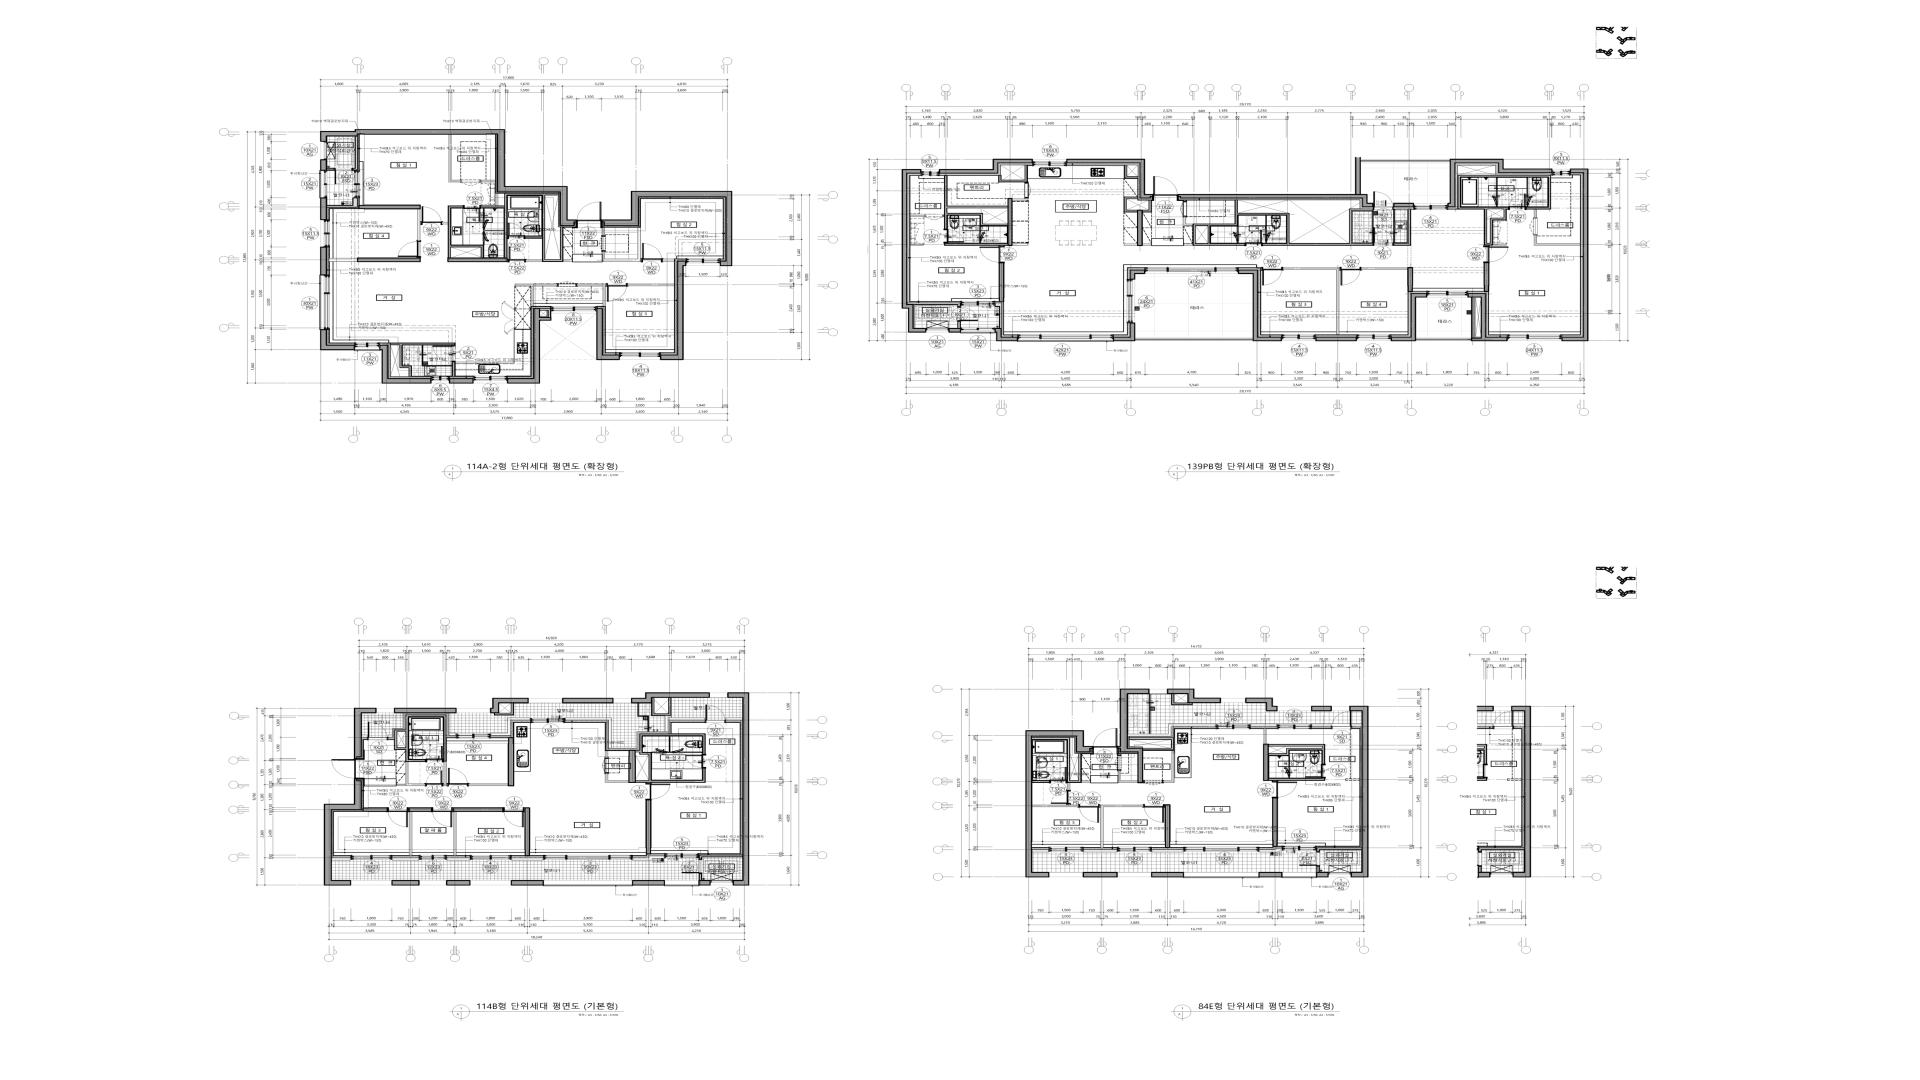door: (1092, 728, 1118, 755), (331, 759, 365, 779), (576, 202, 602, 228), (1153, 176, 1178, 201), (431, 807, 453, 828), (645, 783, 671, 800), (1483, 246, 1509, 263), (979, 246, 1005, 263), (387, 807, 409, 827), (641, 243, 663, 263), (1272, 781, 1297, 798), (503, 807, 524, 827), (420, 206, 442, 225), (1261, 267, 1283, 286), (1339, 267, 1361, 286), (447, 768, 468, 787), (606, 283, 627, 302), (1373, 227, 1394, 246), (1144, 804, 1165, 823), (1079, 804, 1100, 823), (398, 241, 421, 258), (432, 346, 456, 362), (1373, 191, 1393, 210), (705, 705, 726, 723), (367, 722, 388, 740), (1331, 711, 1352, 729), (681, 859, 702, 874), (1299, 851, 1320, 866), (957, 307, 978, 322), (1049, 767, 1067, 784), (463, 205, 481, 222), (425, 771, 444, 787), (686, 754, 706, 769), (1051, 790, 1071, 805), (943, 229, 964, 243), (1305, 764, 1326, 778), (426, 746, 443, 763), (508, 247, 526, 263), (334, 168, 352, 184), (1245, 230, 1263, 246), (1508, 194, 1526, 210), (508, 223, 525, 239), (1529, 218, 1538, 235), (461, 180, 481, 186), (557, 281, 577, 287), (1024, 182, 1031, 199), (602, 758, 609, 773), (1143, 780, 1163, 785), (925, 215, 944, 220)
wall: (320, 129, 576, 226), (1025, 730, 1092, 878), (1178, 157, 1373, 207), (602, 191, 732, 266), (1184, 200, 1373, 246), (1458, 175, 1551, 246), (481, 193, 572, 262), (1448, 159, 1553, 207), (1562, 169, 1589, 341), (727, 692, 749, 886), (324, 779, 362, 886), (902, 169, 926, 333), (394, 715, 447, 786), (1283, 268, 1339, 335), (1066, 159, 1153, 199), (1349, 706, 1369, 878), (636, 734, 706, 783), (944, 175, 1007, 229), (507, 308, 551, 384), (1238, 270, 1282, 341), (1032, 738, 1090, 790), (1118, 689, 1150, 783), (660, 261, 686, 360), (390, 343, 456, 377), (442, 206, 484, 257), (379, 345, 432, 384), (1468, 293, 1508, 341), (1100, 805, 1144, 848), (651, 698, 705, 732), (1391, 293, 1427, 341), (565, 718, 612, 749), (939, 159, 1033, 174), (602, 228, 641, 262), (596, 308, 620, 360), (354, 708, 376, 759), (1269, 744, 1325, 764), (1128, 724, 1216, 736), (515, 284, 557, 306), (631, 692, 710, 703), (1167, 689, 1221, 703), (320, 329, 355, 350), (491, 718, 530, 736), (577, 284, 606, 306), (1394, 209, 1411, 246), (448, 135, 461, 182), (490, 698, 529, 713), (1129, 738, 1174, 750), (998, 165, 1028, 182), (1534, 235, 1580, 246), (1135, 337, 1253, 341), (1245, 698, 1278, 711), (1113, 323, 1135, 341), (1163, 751, 1175, 783), (1361, 159, 1450, 163), (394, 708, 456, 713), (327, 198, 357, 208), (995, 328, 1018, 341), (508, 737, 514, 786), (524, 807, 530, 856), (1272, 798, 1278, 847), (646, 801, 651, 854), (1165, 804, 1171, 848), (494, 703, 514, 716), (628, 751, 636, 783), (357, 258, 421, 262), (562, 698, 613, 703), (453, 807, 503, 812), (359, 205, 421, 209), (447, 258, 508, 262), (1171, 694, 1193, 705), (1118, 771, 1138, 783), (1007, 198, 1012, 246), (605, 773, 628, 783), (1124, 197, 1138, 213), (1263, 744, 1269, 781), (1416, 337, 1471, 341), (907, 303, 961, 307), (1137, 210, 1143, 246), (1083, 872, 1118, 878), (320, 247, 327, 276), (632, 880, 665, 886), (511, 880, 544, 886), (1151, 872, 1184, 878), (1124, 165, 1138, 179), (999, 263, 1004, 302), (944, 243, 1007, 246), (995, 303, 1002, 328), (1484, 263, 1490, 292), (699, 855, 742, 859), (353, 137, 358, 171), (391, 880, 419, 886), (1315, 337, 1357, 341), (1269, 778, 1325, 781), (632, 856, 664, 861), (1471, 298, 1475, 338), (320, 198, 327, 220), (1407, 267, 1413, 292), (1130, 270, 1145, 280), (446, 880, 470, 886), (1259, 872, 1283, 878), (449, 378, 473, 384), (1316, 848, 1362, 851), (453, 812, 456, 856), (409, 812, 412, 856), (363, 807, 387, 812), (1143, 200, 1152, 213), (329, 258, 357, 262), (409, 807, 431, 812), (1311, 706, 1332, 711), (540, 308, 551, 317), (511, 858, 543, 861), (417, 209, 420, 241), (627, 284, 674, 286), (1032, 805, 1079, 807), (1361, 268, 1407, 270), (1393, 203, 1414, 207), (320, 159, 327, 171), (392, 858, 419, 861), (468, 784, 508, 786), (698, 880, 711, 886), (1316, 872, 1329, 878), (447, 858, 470, 861), (1259, 849, 1282, 852), (1083, 850, 1117, 852), (948, 328, 961, 333), (1152, 850, 1184, 852), (452, 362, 456, 377), (332, 858, 351, 861), (1251, 724, 1277, 726), (1032, 780, 1049, 783), (1032, 850, 1049, 853), (1012, 243, 1028, 246), (1264, 729, 1267, 744), (1312, 724, 1331, 726), (495, 194, 498, 206), (663, 259, 674, 262), (726, 718, 742, 720), (514, 784, 530, 786), (1013, 199, 1028, 201), (910, 215, 925, 217), (481, 180, 495, 182), (910, 244, 924, 246), (1124, 244, 1137, 246), (1316, 866, 1320, 872), (602, 228, 605, 236), (957, 322, 961, 328), (605, 751, 608, 758), (449, 733, 456, 736), (327, 168, 334, 171), (1352, 724, 1362, 726), (699, 874, 702, 880), (1143, 244, 1151, 246), (388, 735, 393, 737), (362, 735, 367, 737), (1118, 754, 1121, 755)
window: (1018, 334, 1113, 342), (1145, 267, 1238, 274), (319, 276, 330, 329), (543, 855, 632, 860), (544, 881, 632, 886), (1508, 334, 1562, 341), (1184, 873, 1259, 878), (1184, 847, 1259, 852), (1127, 280, 1135, 323), (620, 352, 660, 360), (551, 306, 596, 313), (686, 258, 720, 266), (1427, 291, 1468, 297), (321, 220, 330, 247), (1414, 203, 1448, 210), (1357, 334, 1391, 341), (473, 376, 507, 383), (1282, 334, 1315, 341), (1033, 159, 1066, 166), (319, 171, 327, 198), (355, 342, 379, 351), (352, 171, 360, 198), (470, 855, 511, 860), (351, 855, 392, 860), (961, 301, 995, 307), (530, 718, 565, 723), (456, 734, 491, 739), (664, 853, 699, 858), (1117, 847, 1152, 852), (1277, 724, 1312, 729), (1049, 847, 1083, 852), (1282, 846, 1316, 851), (1216, 724, 1250, 729), (961, 328, 995, 333), (457, 708, 490, 713), (529, 698, 562, 703), (665, 881, 698, 886), (1283, 873, 1316, 878), (1278, 706, 1311, 711), (470, 881, 511, 885), (351, 881, 391, 885), (419, 855, 447, 860), (1049, 873, 1083, 877), (1118, 873, 1151, 877), (431, 376, 449, 383), (1221, 698, 1245, 703), (1553, 169, 1570, 176), (711, 880, 733, 885), (1329, 872, 1351, 877), (921, 170, 939, 176), (420, 881, 446, 885), (321, 142, 327, 159), (613, 698, 631, 703), (926, 328, 948, 332), (710, 693, 727, 698), (1332, 706, 1349, 711), (1150, 689, 1167, 694), (377, 708, 394, 713)
